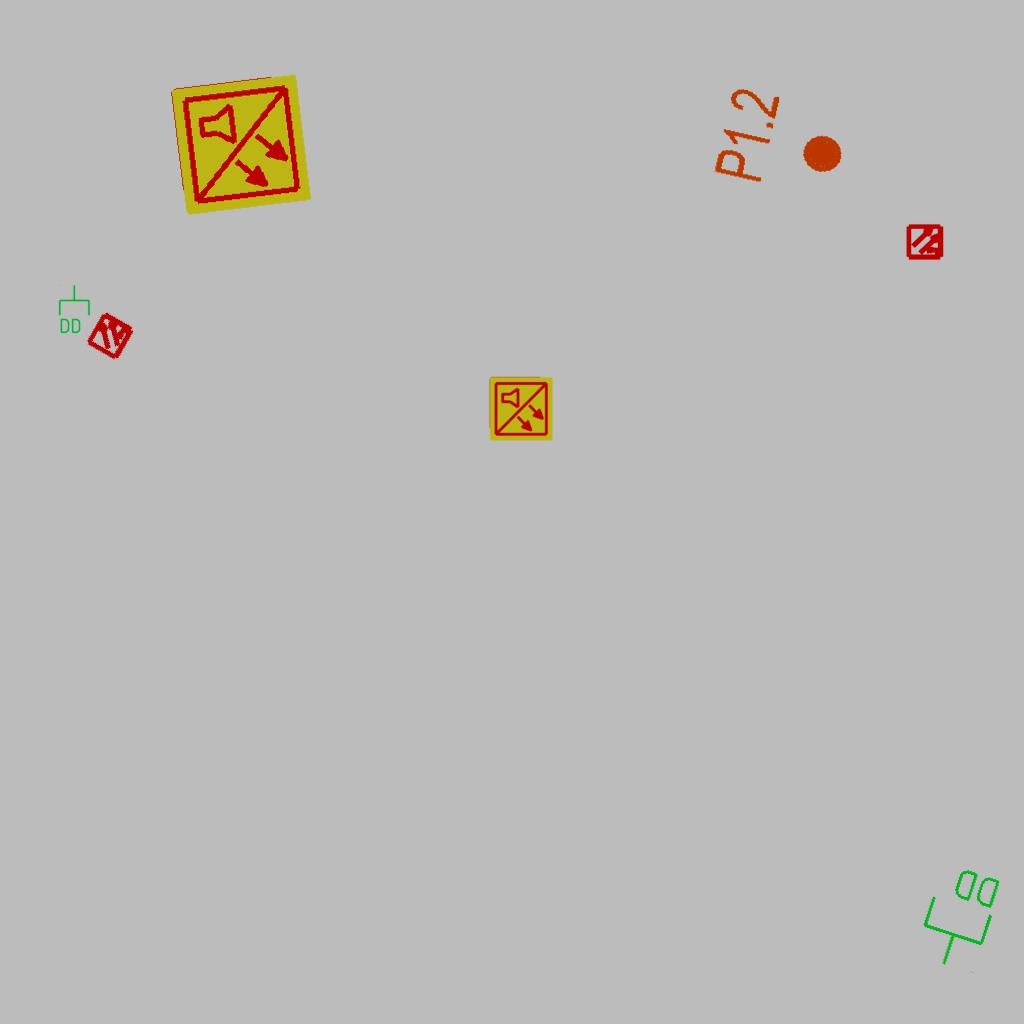Datenanschluss_zweifach: (910, 857, 1009, 978), (57, 284, 91, 335)
Downlight_LED_Einbauleuchten_Flur: (709, 83, 856, 203)
OKW_Multisensormelder_(Kombination_optischer_Rauch-Kahlenmonoxid_Waerme-Melder): (167, 71, 315, 219), (488, 376, 554, 442)
OT_Multisensormelder_(Kombination_RMO_WMD): (72, 296, 150, 374), (898, 214, 954, 270)
